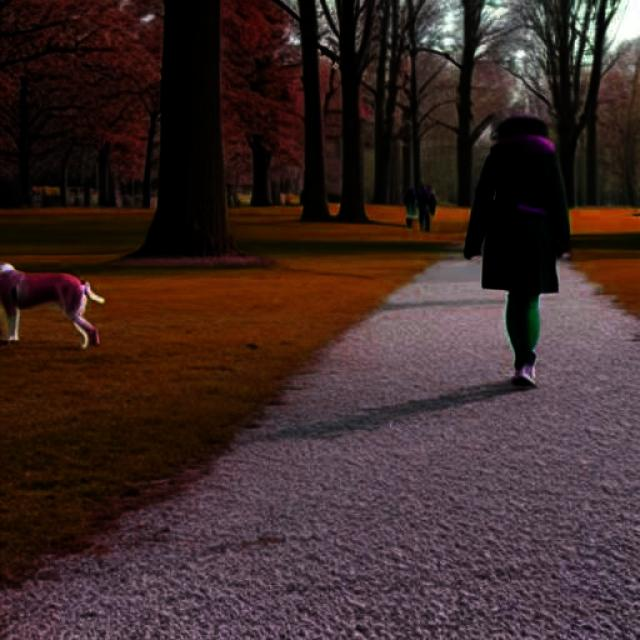Unleashed_Dog: (0, 260, 541, 352)
